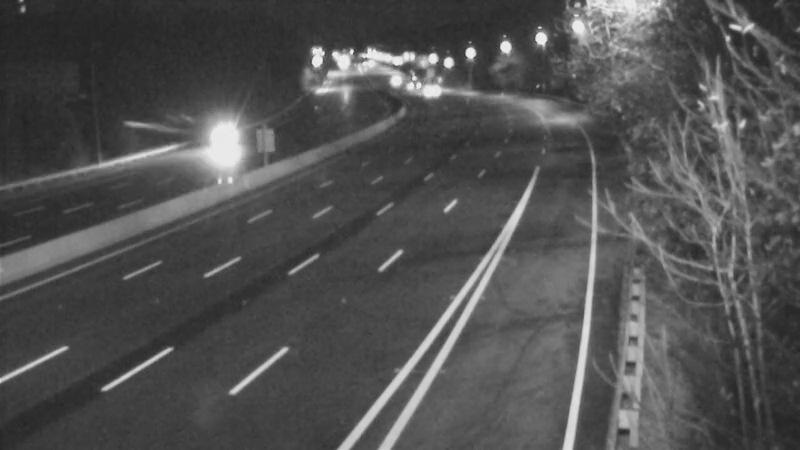vehicle: (371, 54, 421, 104), (386, 58, 436, 108), (409, 65, 459, 115), (186, 119, 236, 169)
